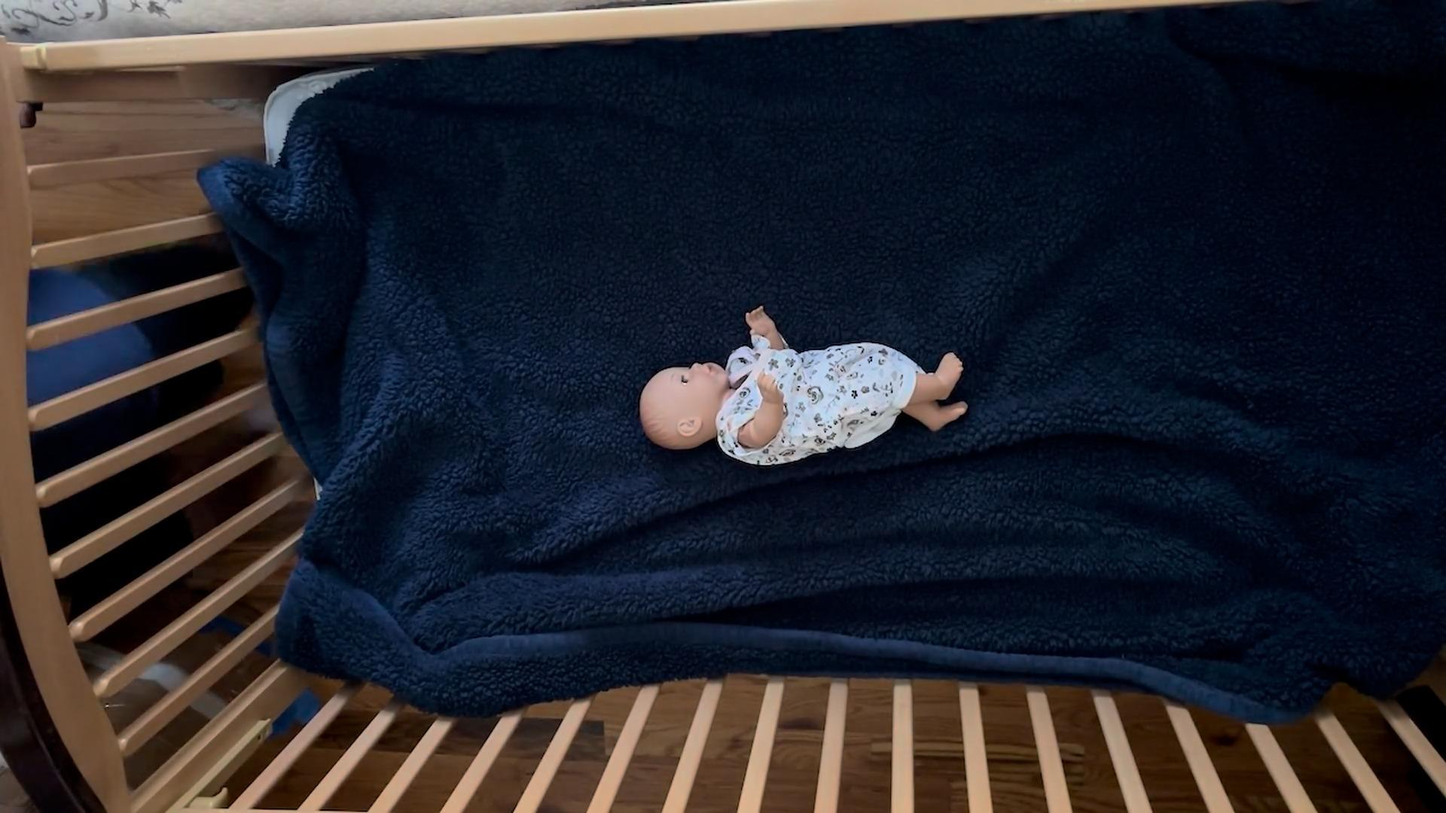baby: (630, 304, 974, 477)
